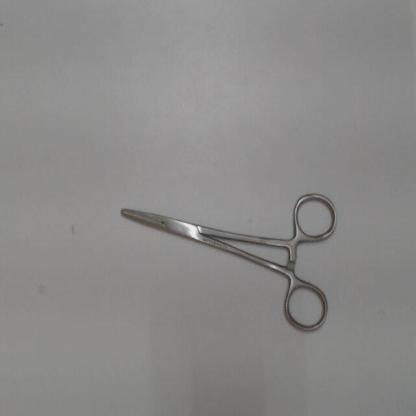Mayo Needle Holder: (102, 183, 345, 343)
